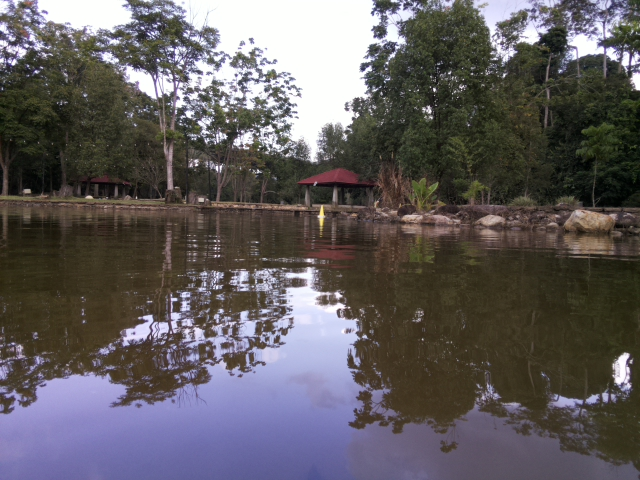checkpoint: (315, 205, 329, 219)
